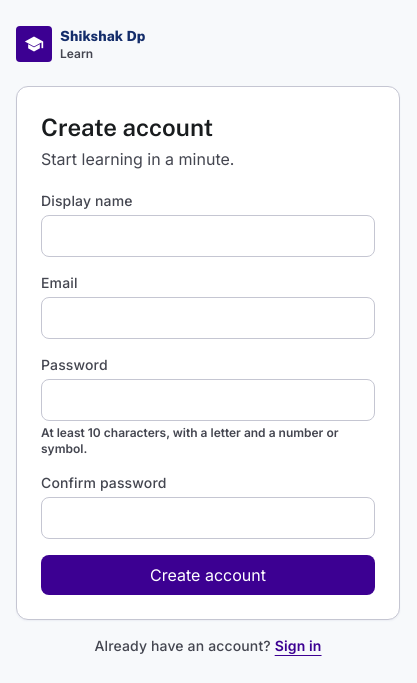
Test: RegisterPage › shows a duplicate-email server error on the email field
Type "New Learner" into the field labelled "Display name" at (208, 236), box top-left (41, 215), bottom-right (375, 257)
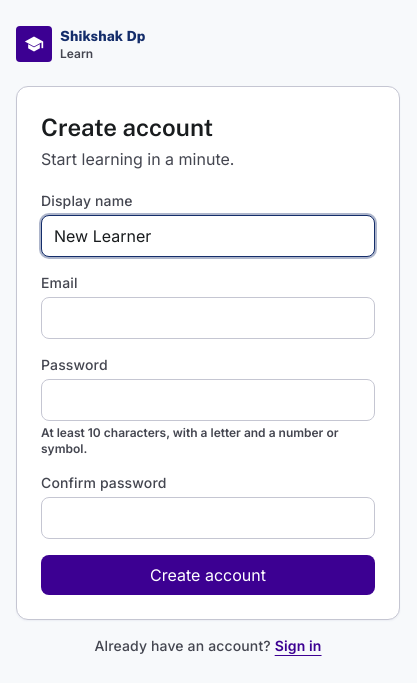
Type "new@example.com" into the field labelled "Email" at (208, 318), box top-left (41, 297), bottom-right (375, 339)
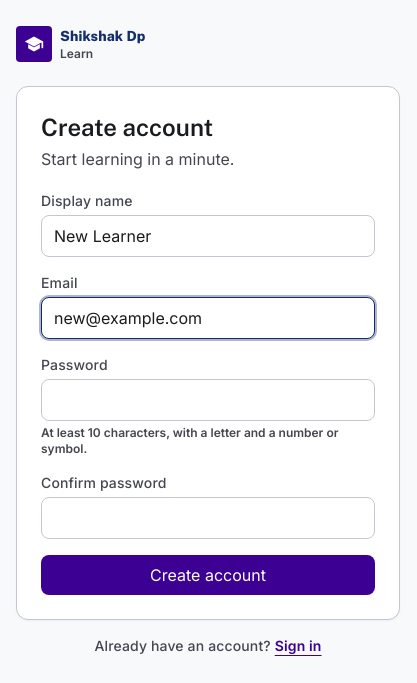
Type "strong-pw-2468" into the password field labelled "Password" at (208, 400), box top-left (41, 379), bottom-right (375, 421)
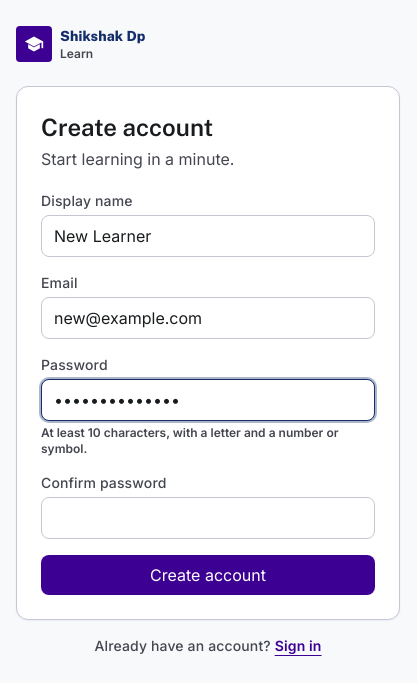
Type "strong-pw-2468" into the password field labelled "Confirm password" at (208, 518), box top-left (41, 497), bottom-right (375, 539)
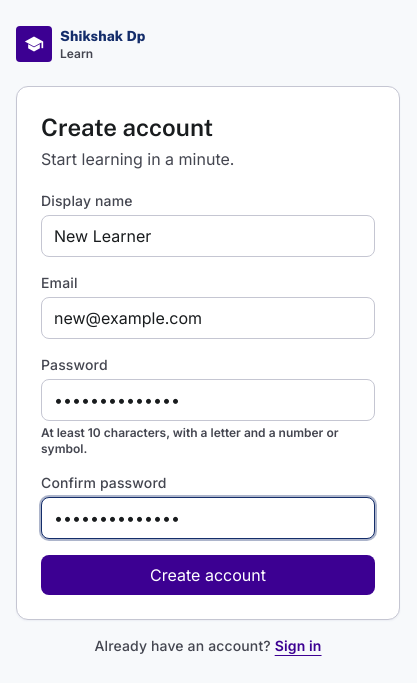
Click the button with test id "btn-sl1" at (208, 575), box top-left (41, 555), bottom-right (375, 595)
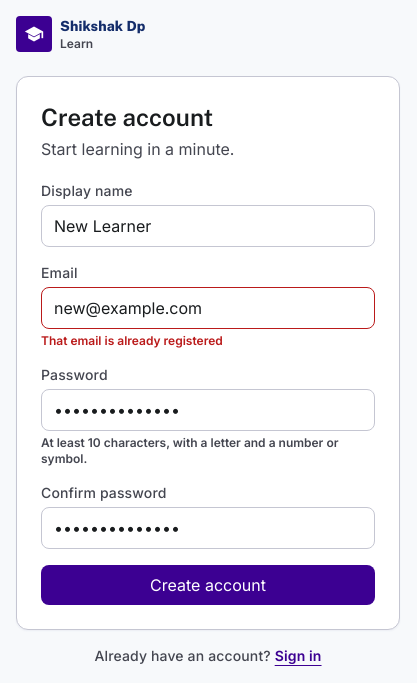
Check: the text "That email is already registered" is shown, box top-left (41, 333), bottom-right (223, 348)
